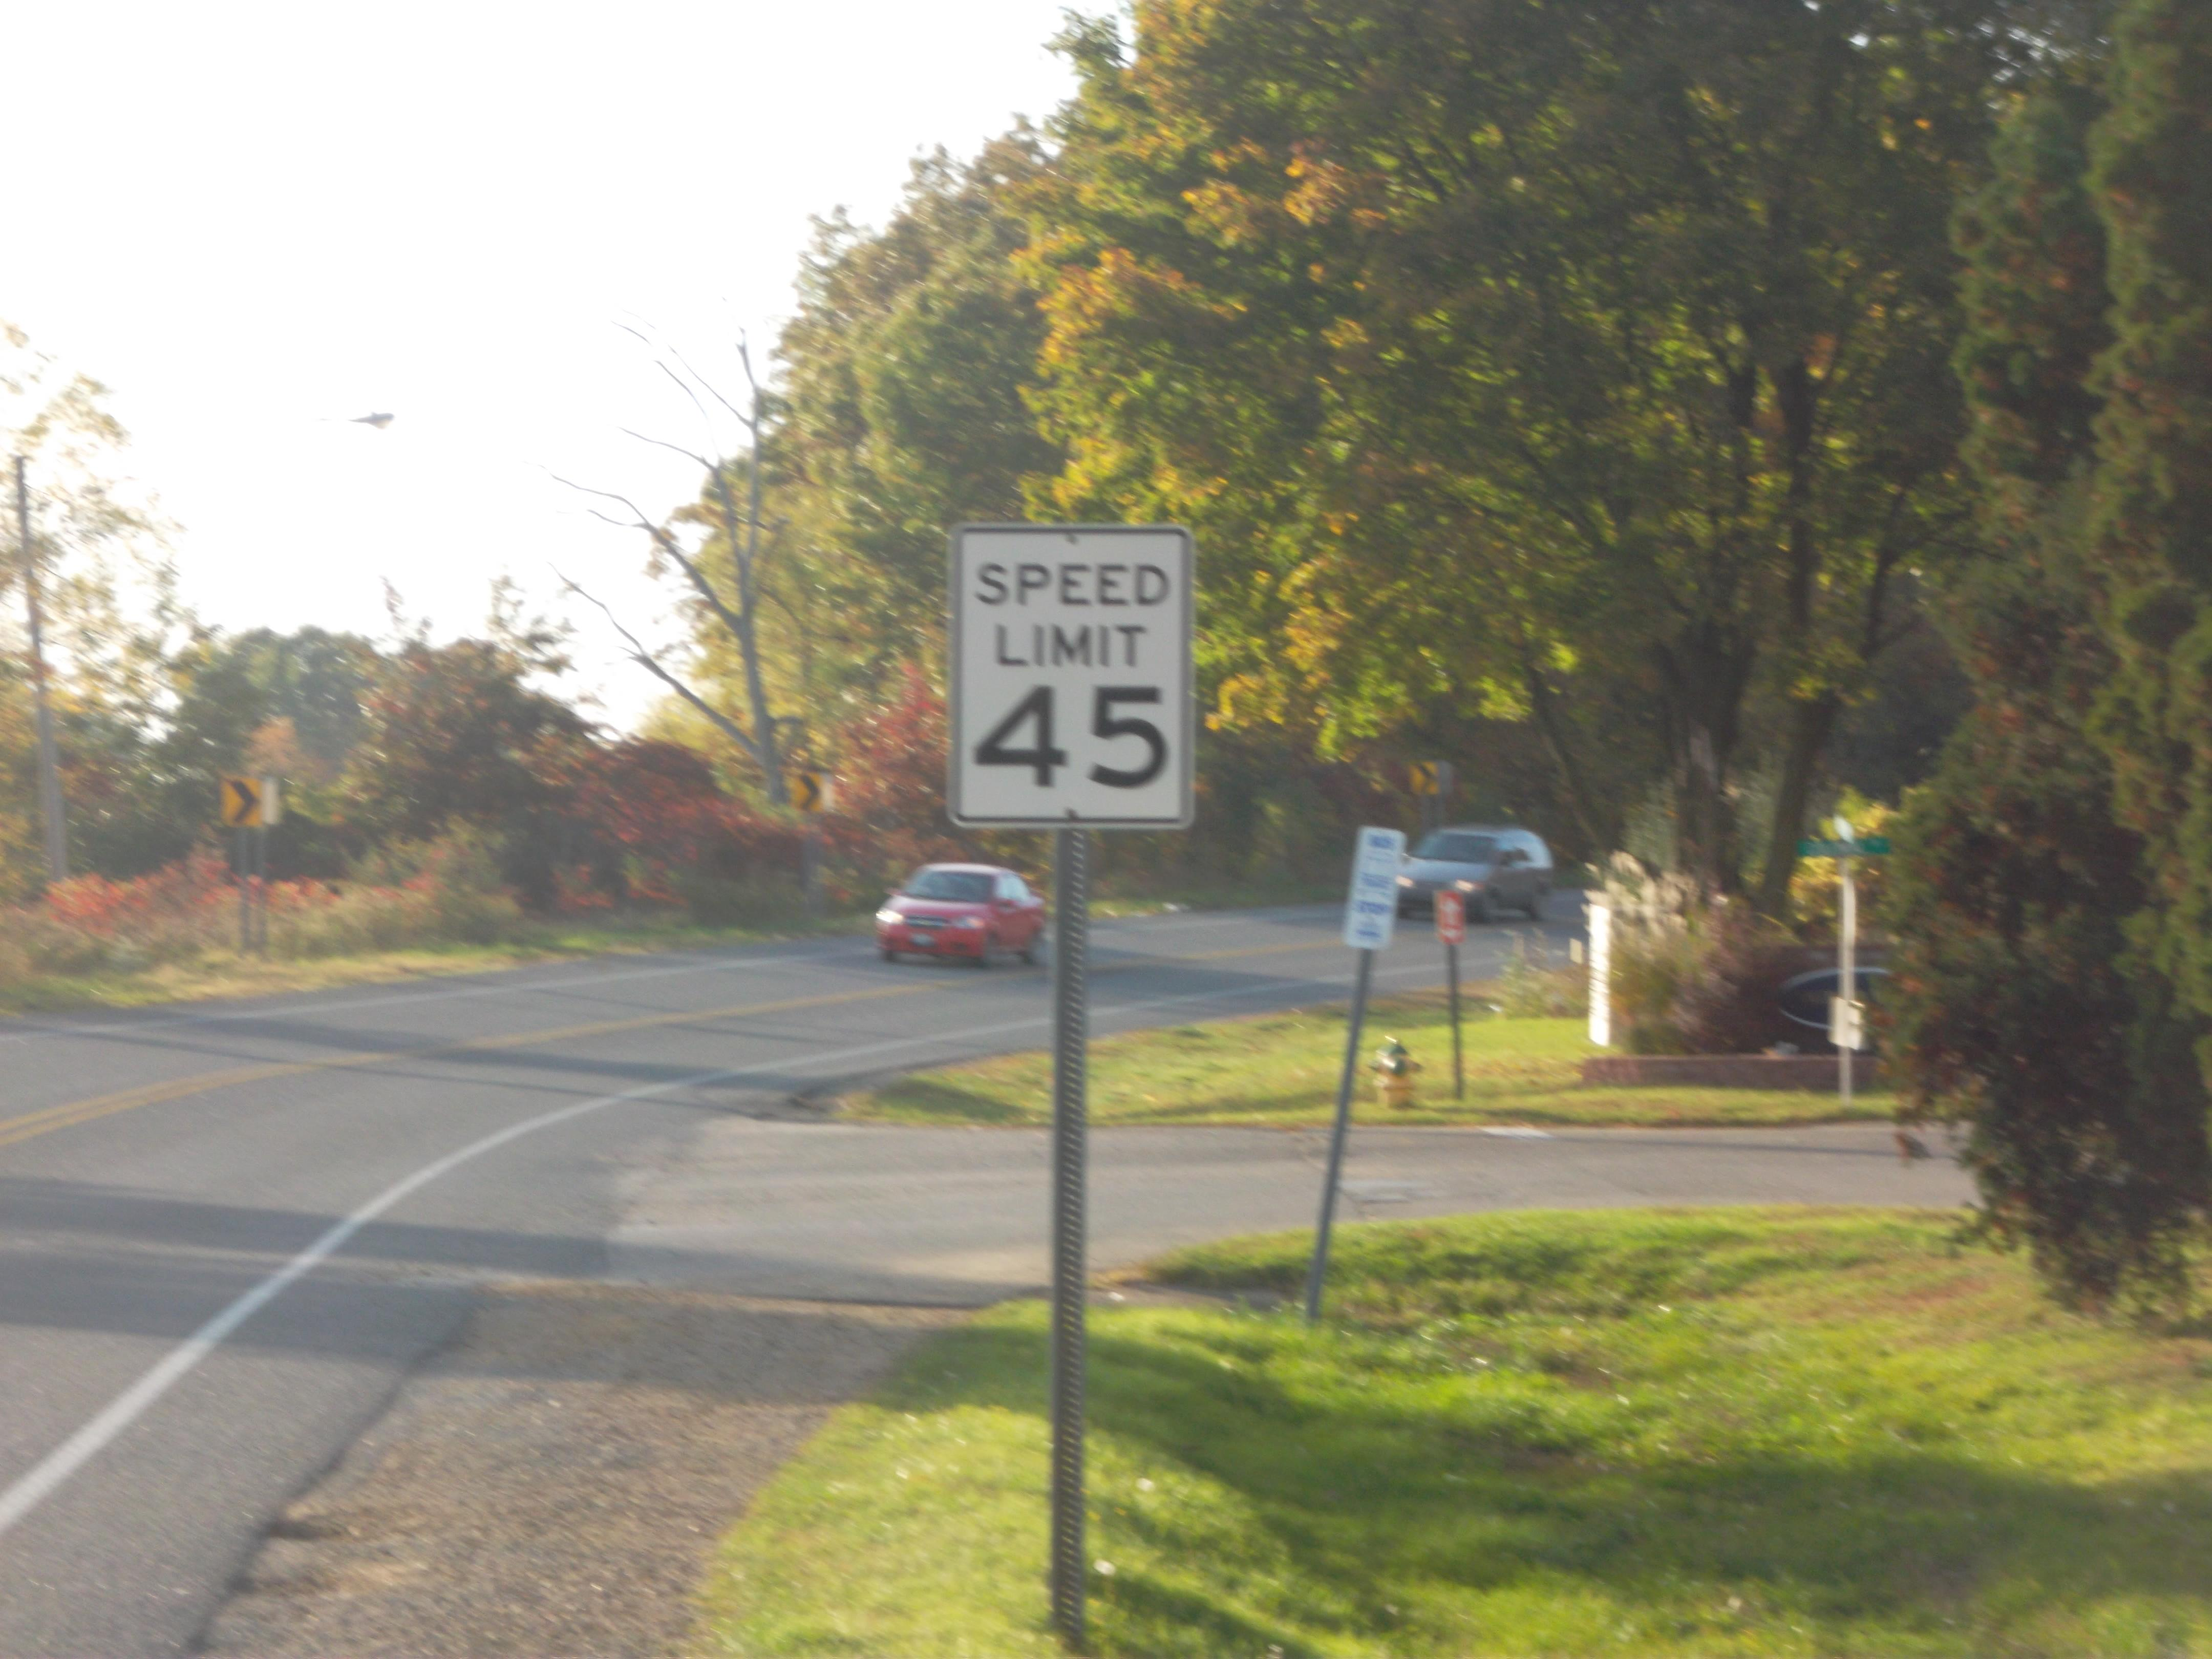regulatory: (942, 516, 1202, 838)
